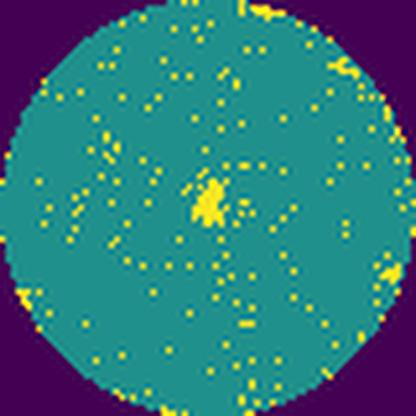Center: (190, 178, 231, 228)
